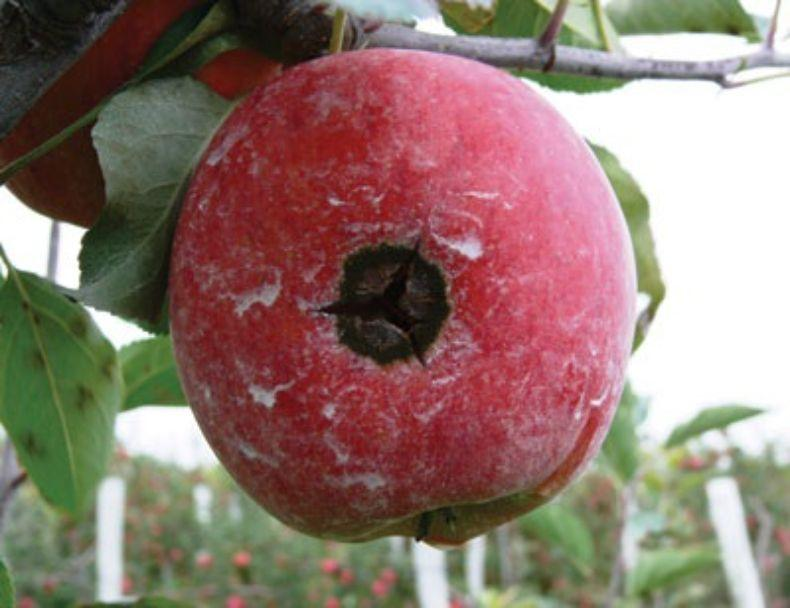SCAB: (151, 58, 677, 548)
